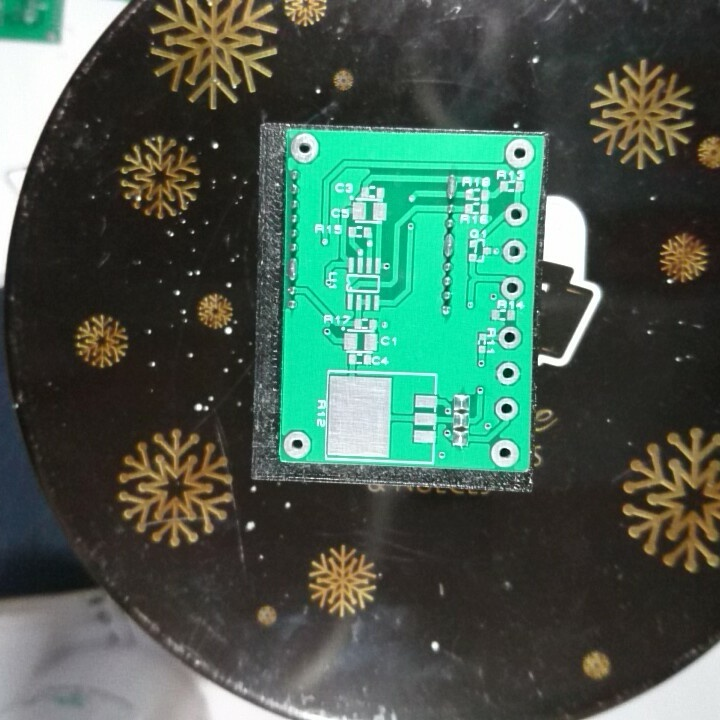F: (503, 137, 537, 172), (288, 130, 322, 164), (280, 429, 314, 461), (489, 438, 524, 469), (499, 237, 529, 267), (498, 274, 528, 303), (495, 324, 525, 351), (492, 396, 522, 423), (503, 201, 531, 229), (494, 361, 522, 387)
P: (441, 231, 456, 260), (444, 172, 458, 202), (286, 255, 301, 283)
